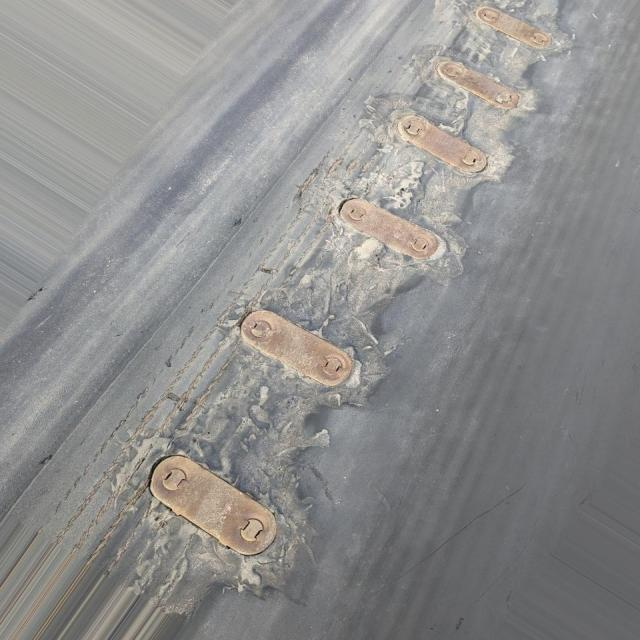patch work: (125, 0, 570, 596)
